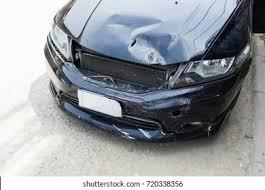bonnet-dent: (65, 0, 222, 71)
front-bumper-dent: (71, 80, 216, 142)
